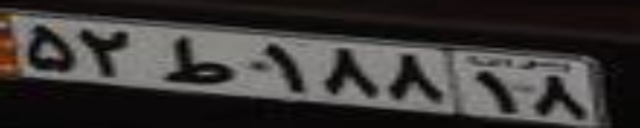1: (472, 69, 520, 114), (264, 44, 305, 91)
2: (78, 27, 134, 77)
5: (20, 24, 77, 71)
8: (319, 48, 375, 97), (386, 54, 443, 102), (534, 73, 585, 119)
taa: (159, 36, 237, 85)
